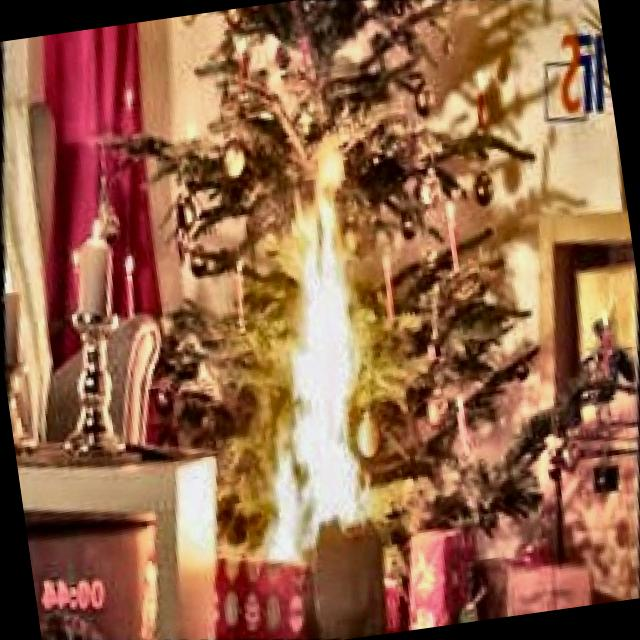fire: (146, 106, 488, 636)
